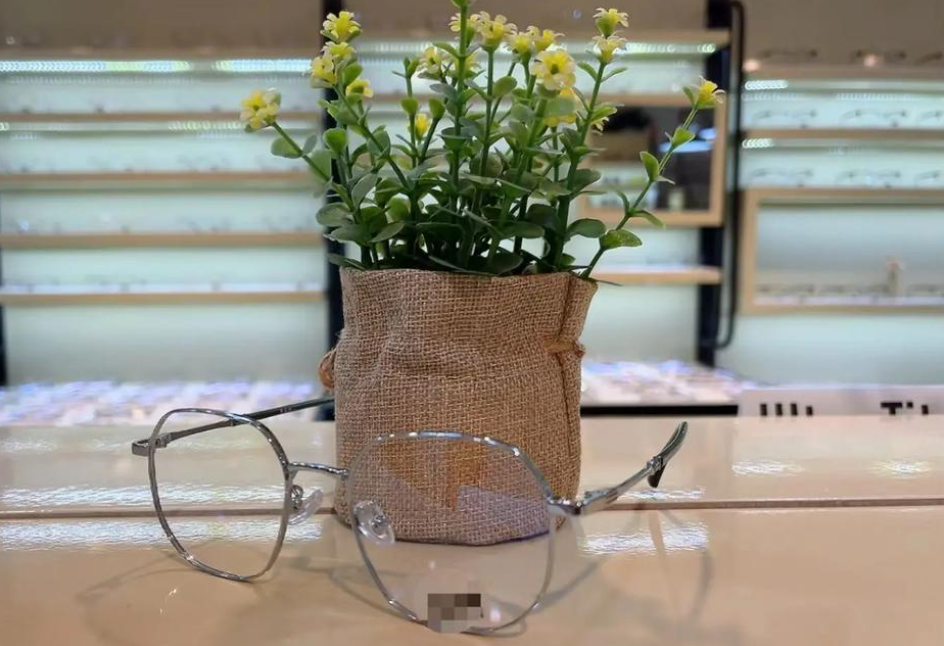glass: (115, 369, 707, 639)
